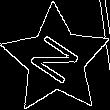N_SE: (25, 29, 87, 90)
